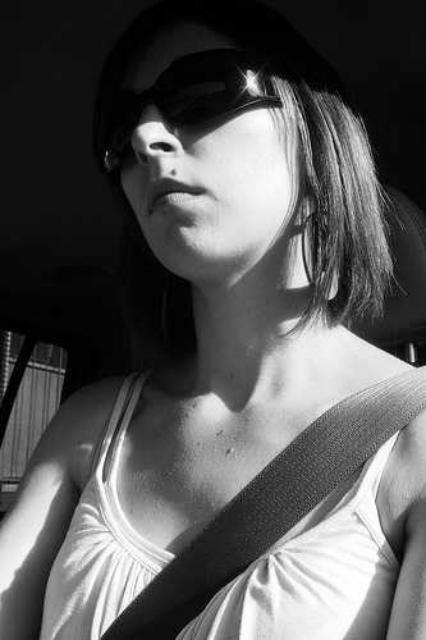Seatbelt: (92, 358, 426, 640)
